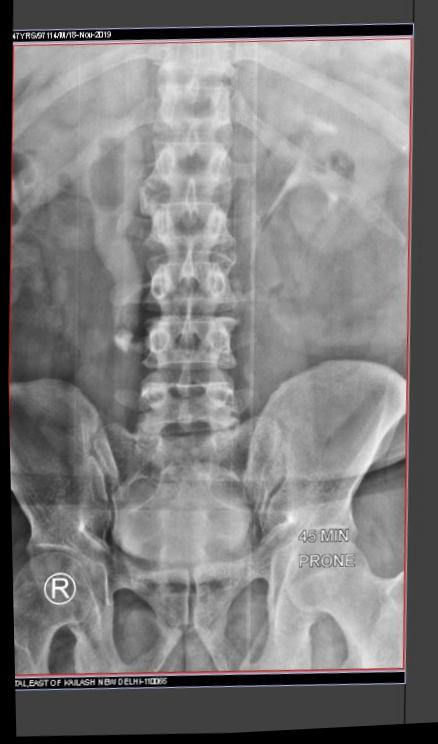bladder: (105, 456, 257, 577)
left kidney: (263, 84, 395, 268)
vertebrae: (143, 135, 236, 201)
